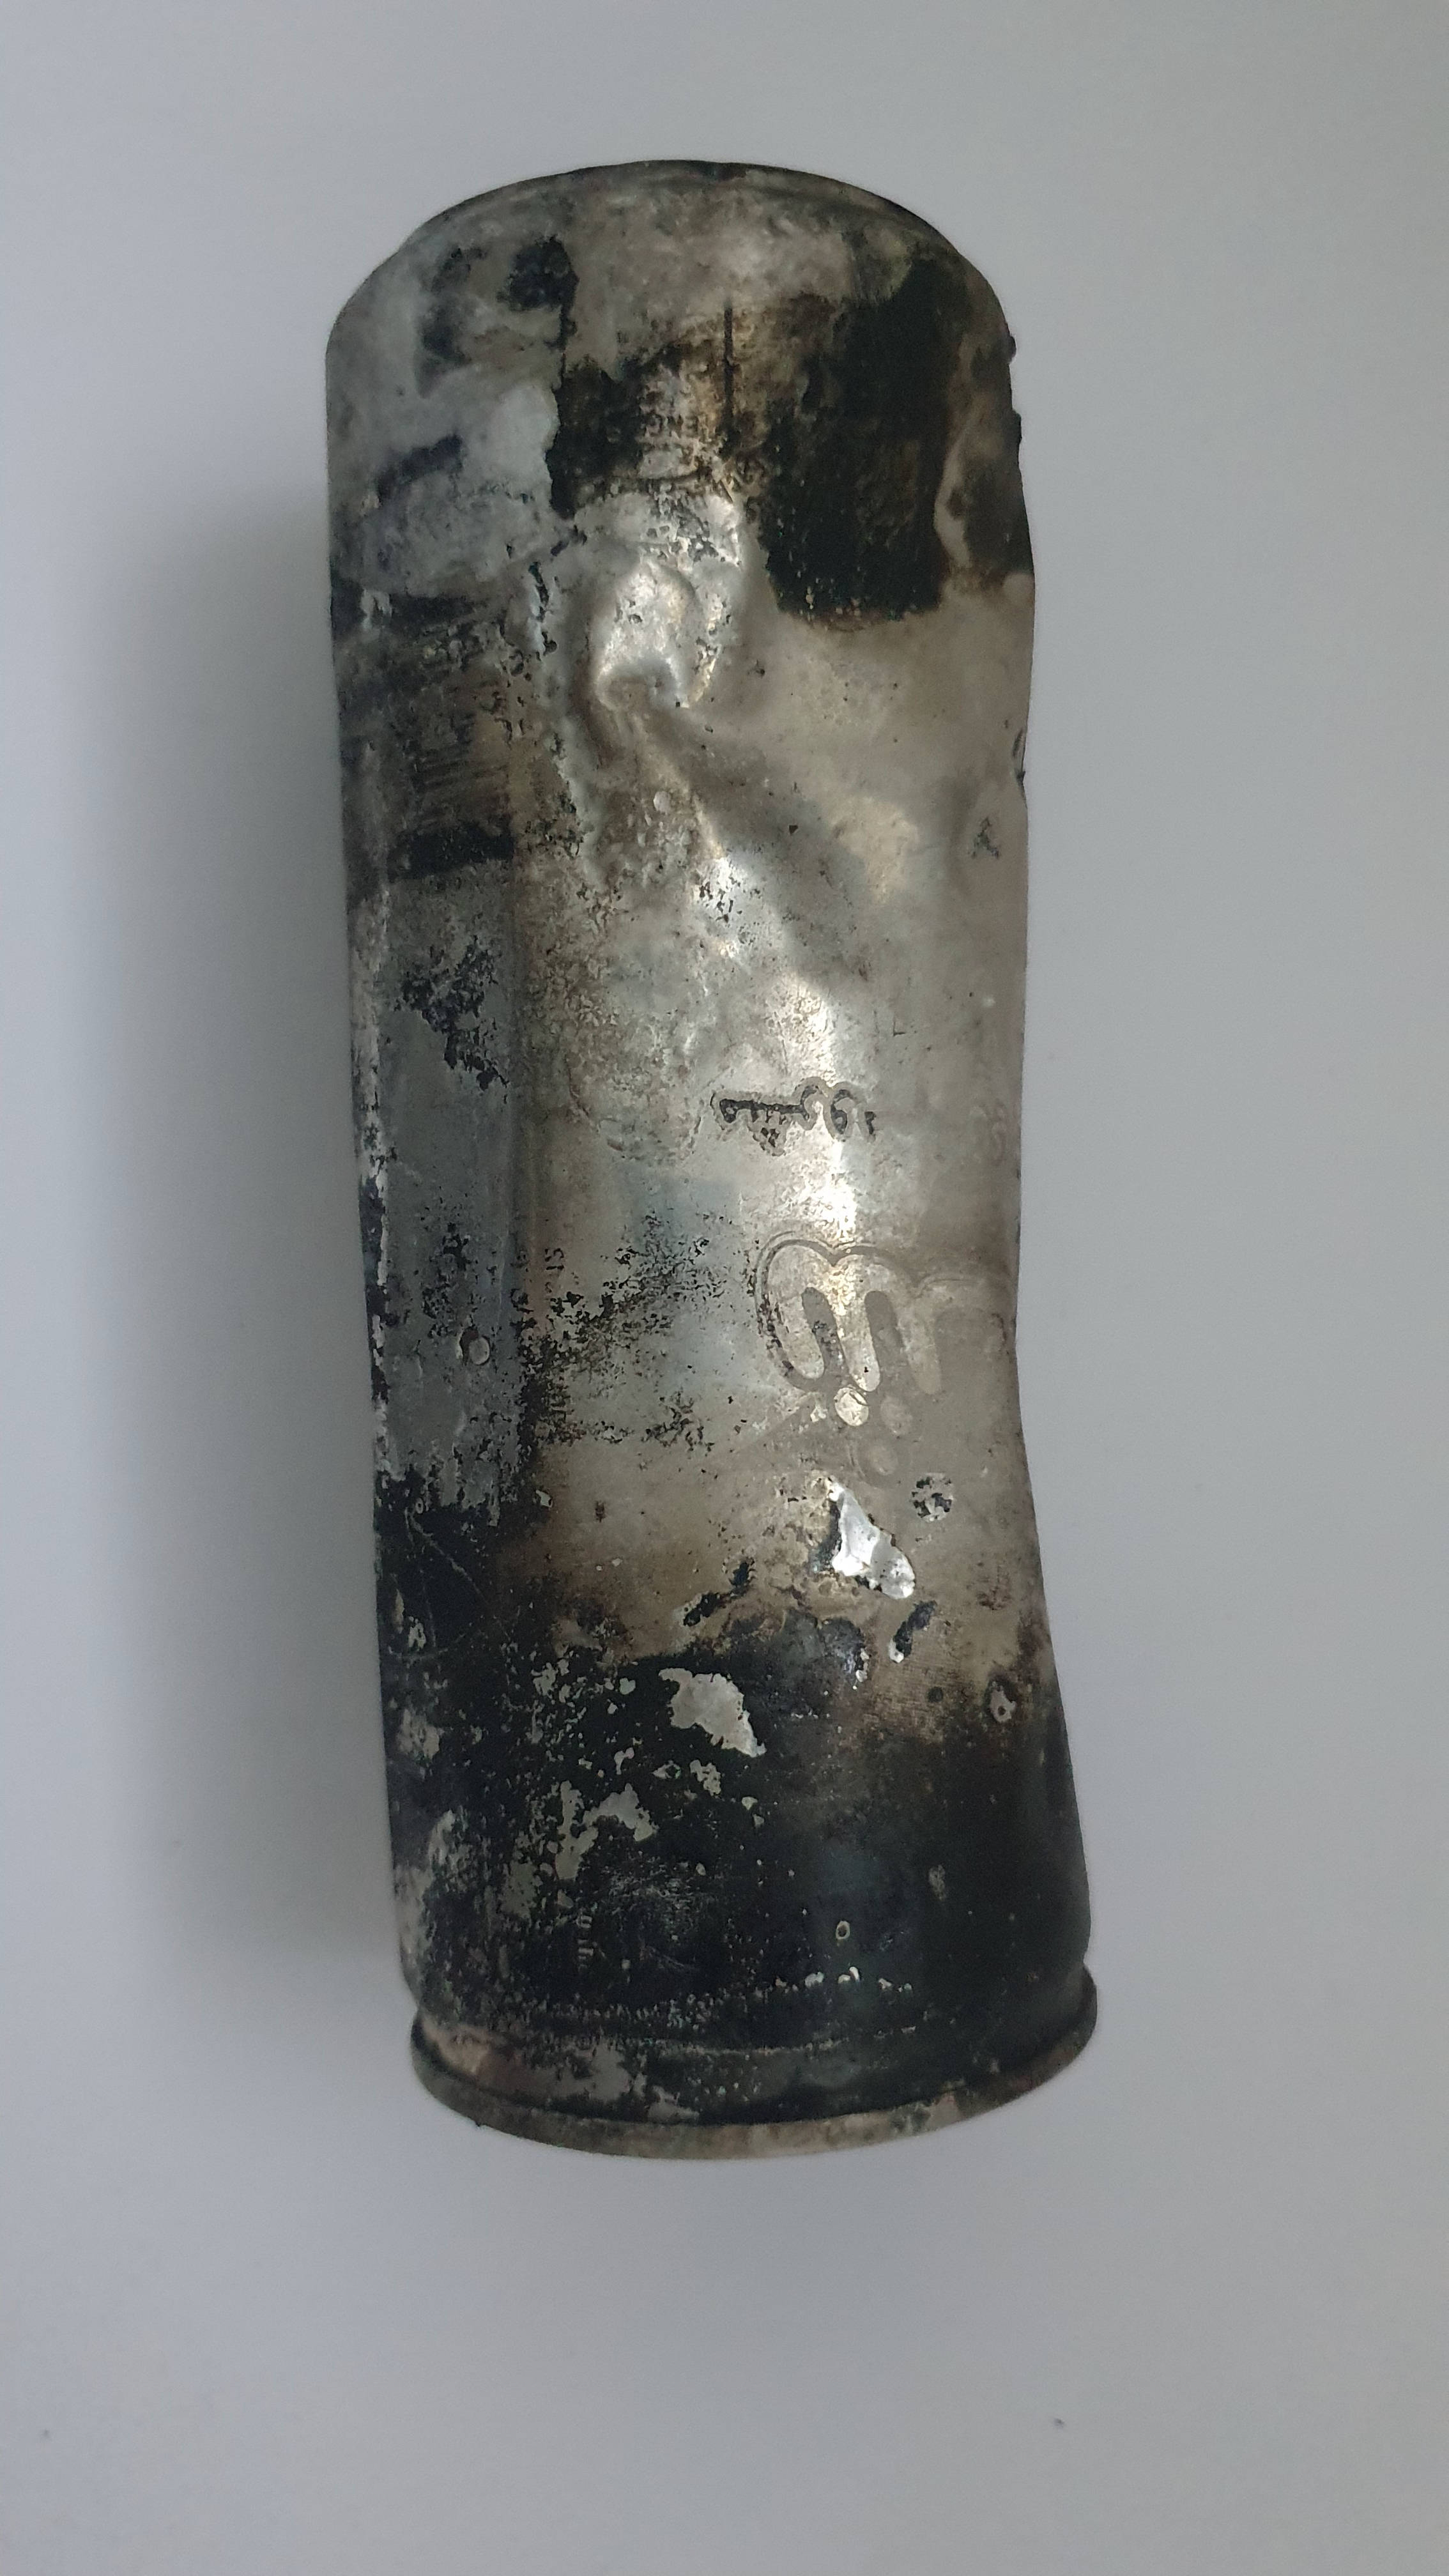metal: (258, 104, 1161, 2180)
